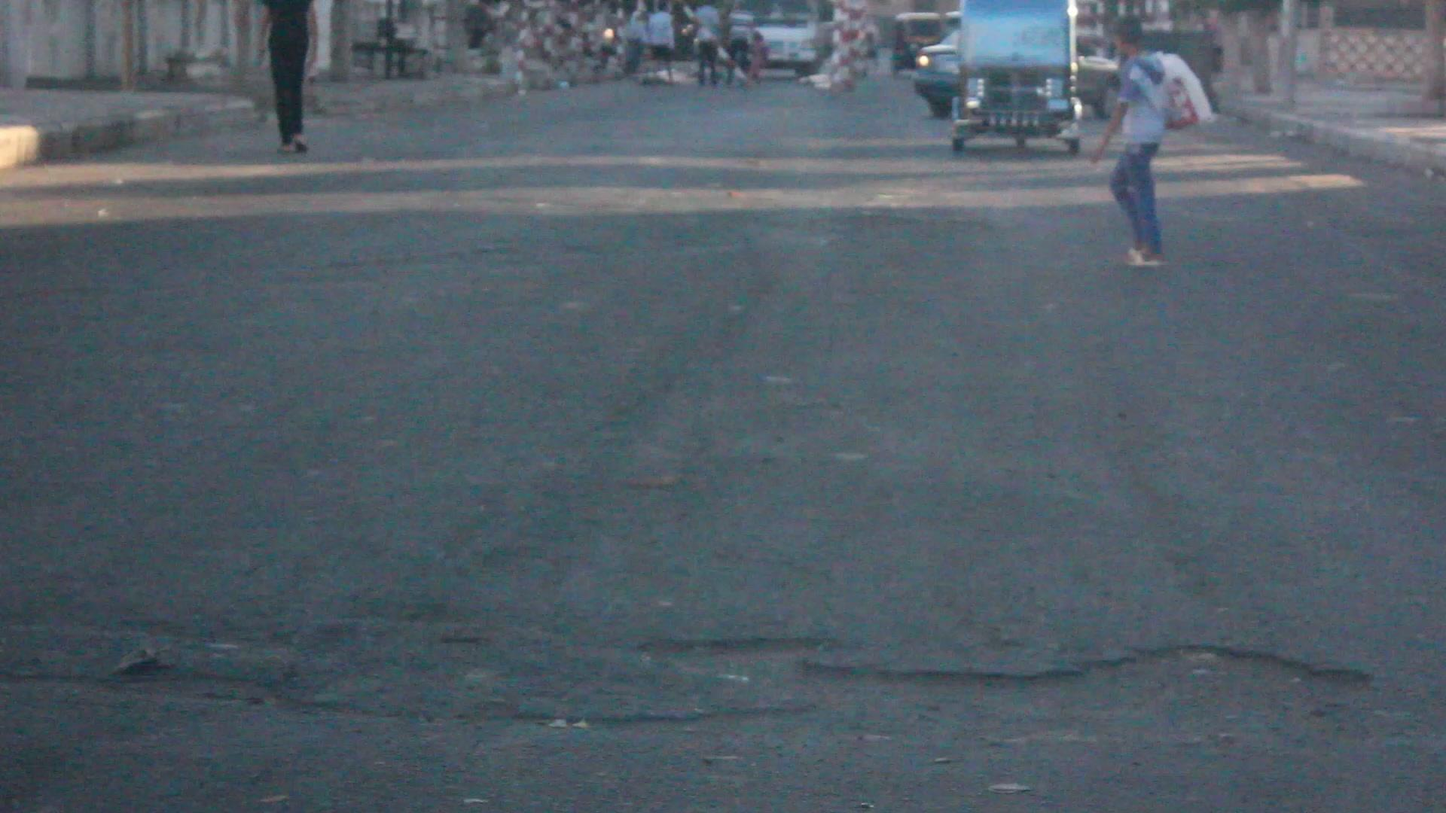Pothole: (21, 597, 1446, 768)
